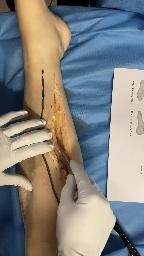scalpel: (56, 137, 74, 177)
